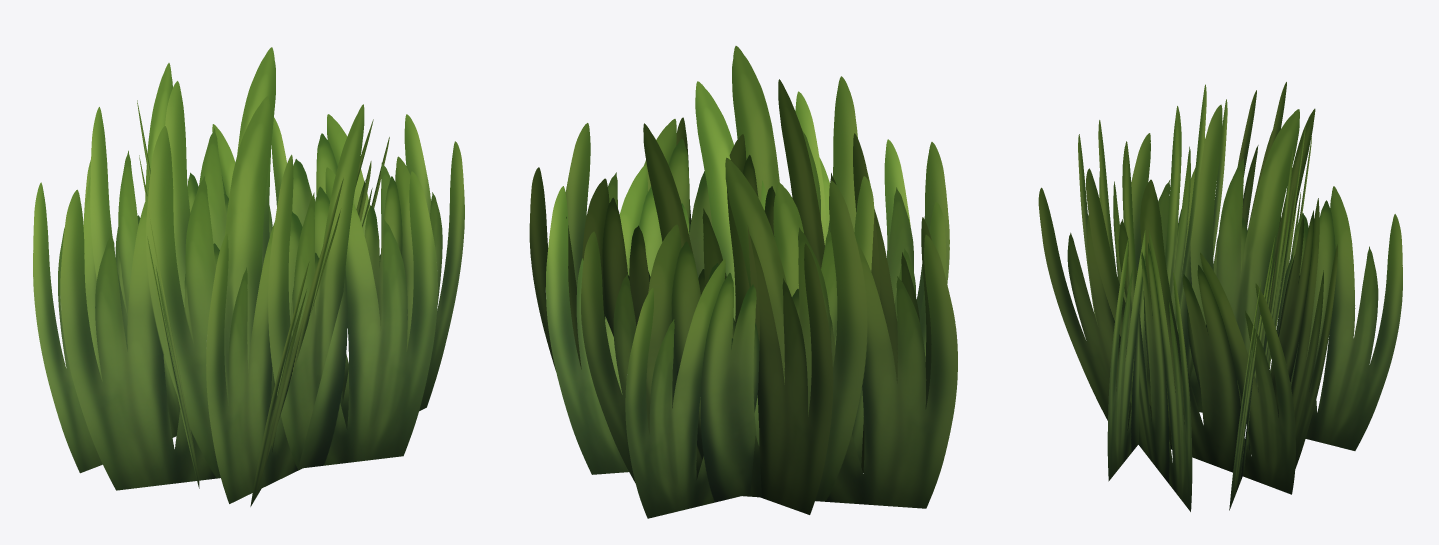
The model's file is grass.fbx.
3 renders of one model, left to right at view 1: azimuth 30°, elevation 25°; view 2: azimuth 150°, elevation 25°; view 3: azimuth 270°, elevation 25°, orthographic. The views are drawn at different scales.
Parts seen in each view (by area): view 1: Grass.003; view 2: Grass.003; view 3: Grass.003.
Part boxes in pixels (x1,y1,x2,y2): Grass.003: [33, 47, 464, 506]; Grass.003: [529, 46, 957, 518]; Grass.003: [1038, 82, 1402, 511].
Size of the model in its own units: 30.54 by 26.64 by 28.3.
